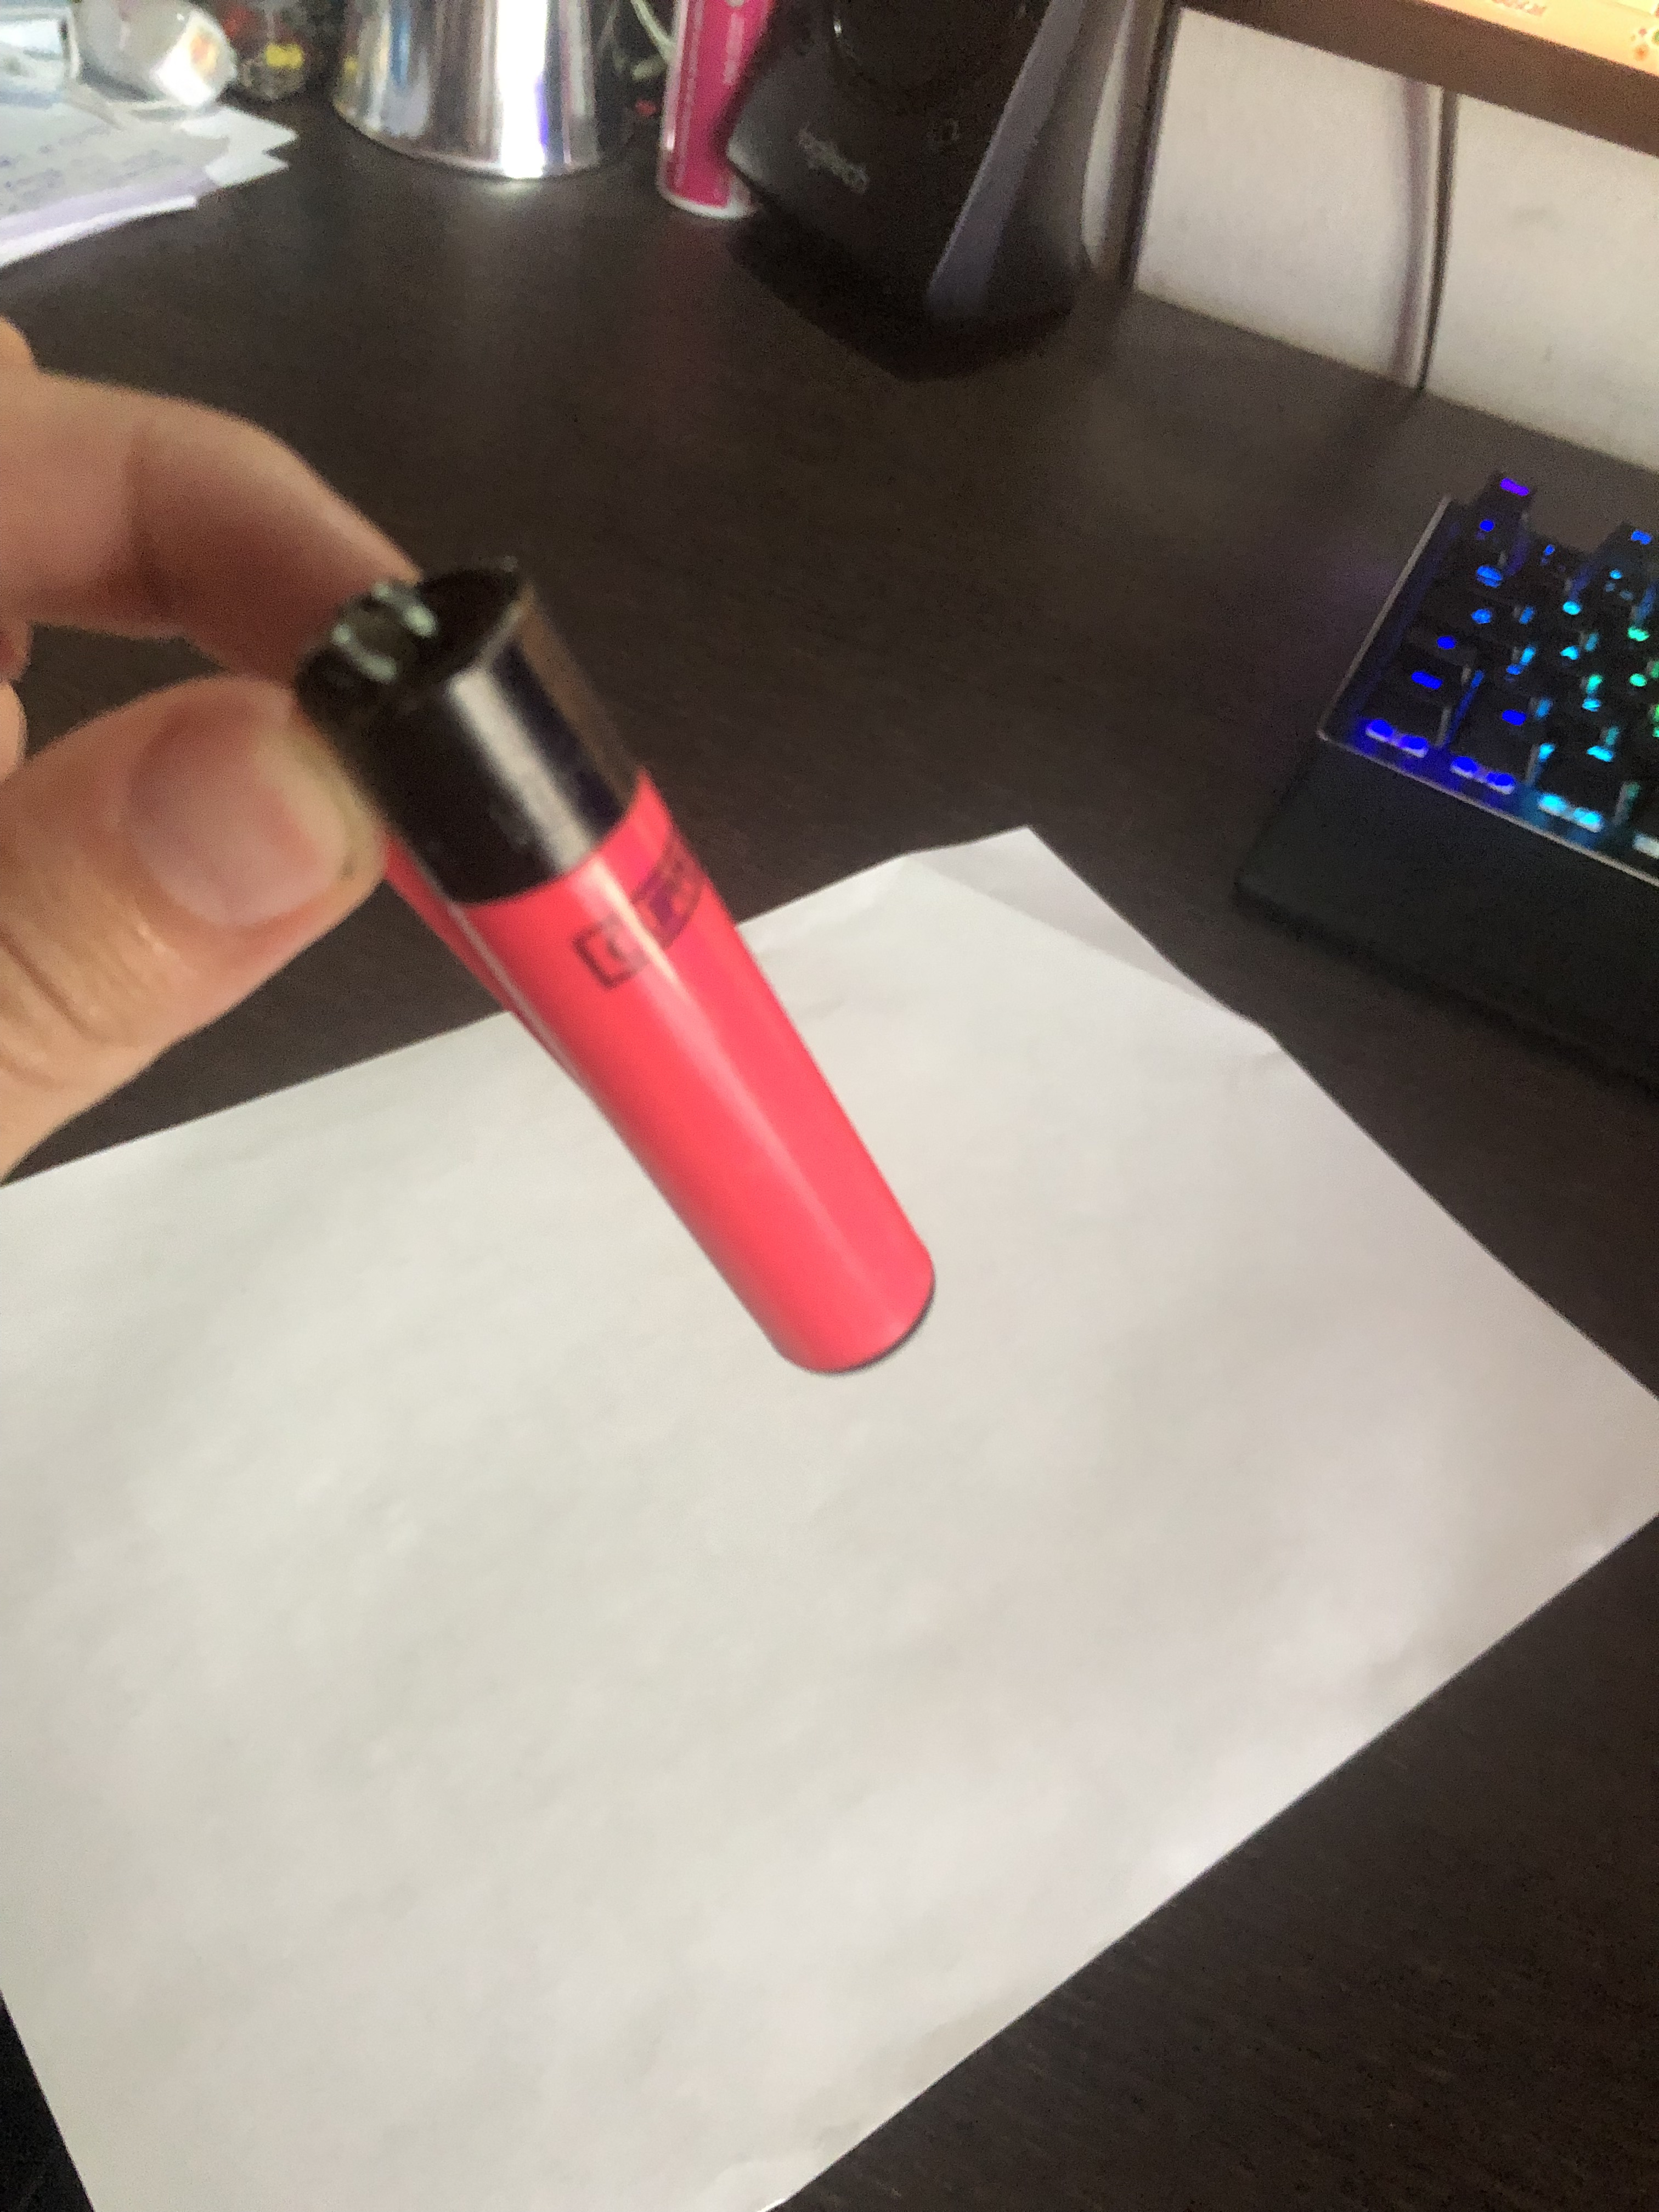Mechero: (307, 545, 948, 1379)
